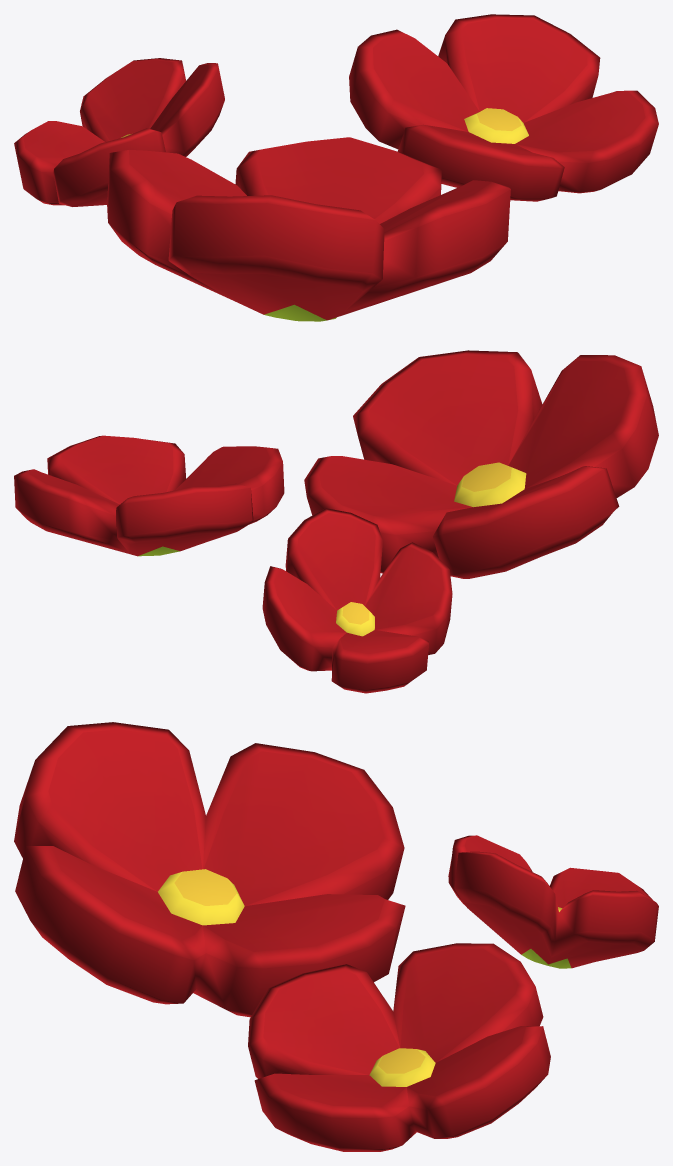
Rendered from flower_trio_red_LOD_group.fbx.
The picture shows the model from 3 angles, top to bottom: view 1: azimuth 30°, elevation 25°; view 2: azimuth 150°, elevation 25°; view 3: azimuth 270°, elevation 25°; orthographic projection. The views are drawn at different scales.
Visible parts, largest first — view 1: flower_trio_red_LOD0; view 2: flower_trio_red_LOD0; view 3: flower_trio_red_LOD0.
Boxes of the visible parts, x1,y1,x2,y2 form: flower_trio_red_LOD0: (14, 14, 658, 321); flower_trio_red_LOD0: (14, 350, 658, 693); flower_trio_red_LOD0: (14, 722, 658, 1151).
Size of what is drawn, in the model's own units: 77.5 by 24.22 by 72.15.
1 material, 1 textured.
